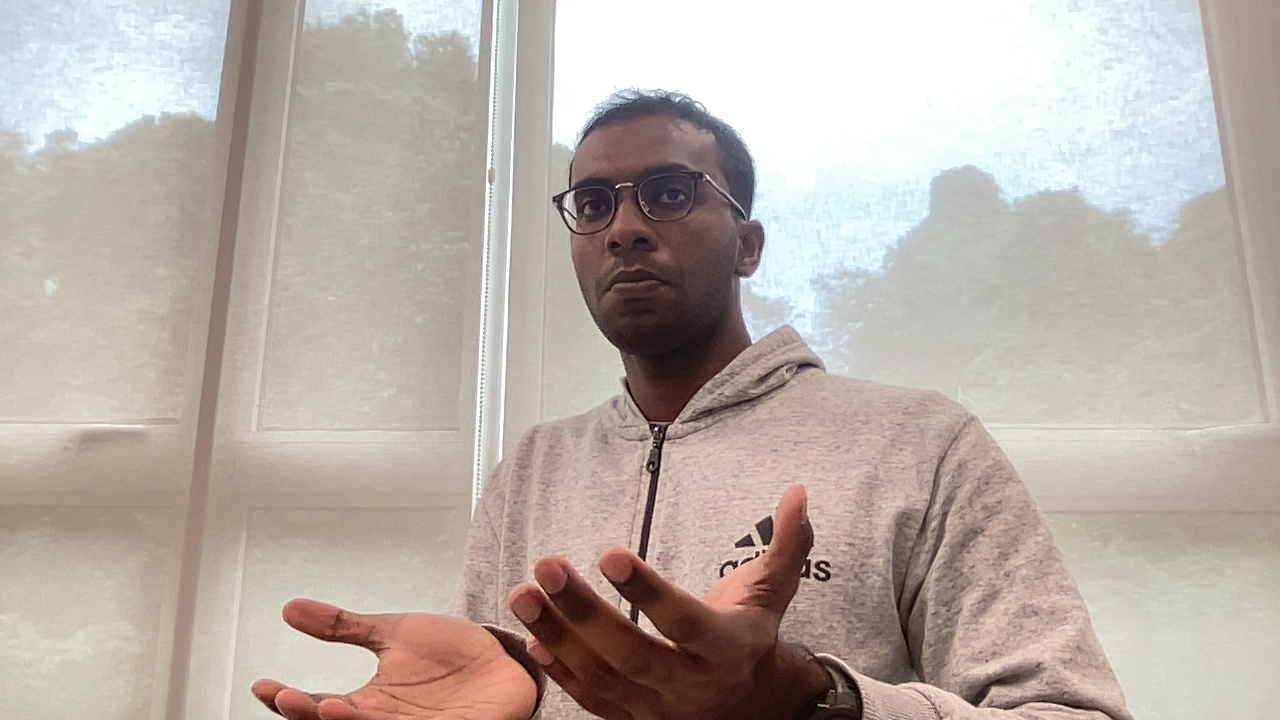give: (248, 479, 836, 720)
